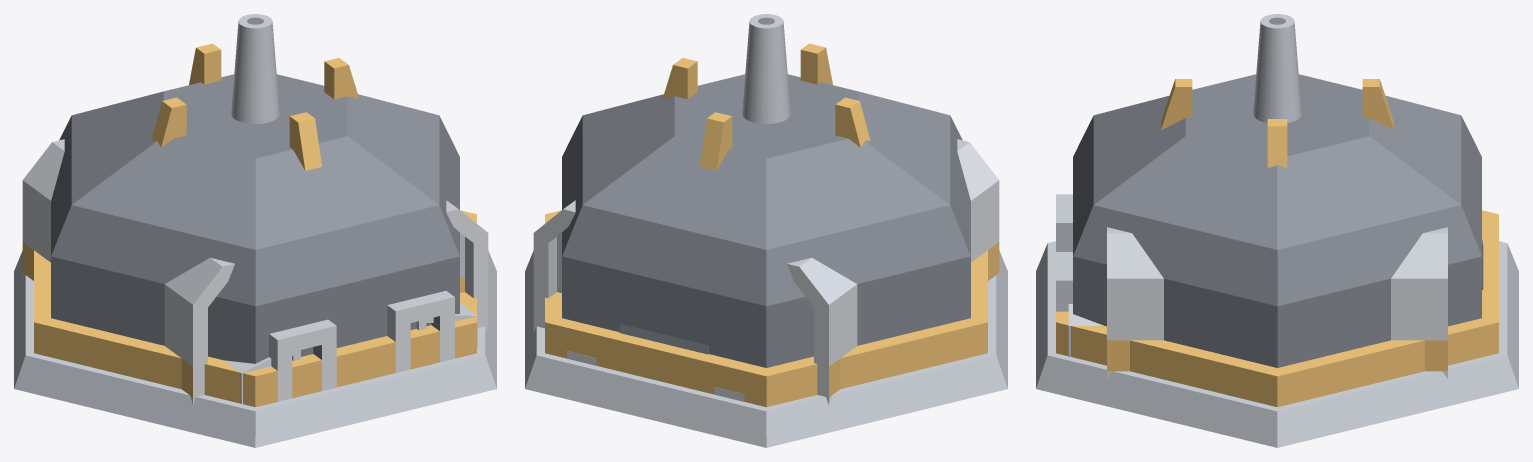
Rendered from kenney-space.glb.
3 views of the same model, side by side, from view 1: azimuth 30°, elevation 25°; view 2: azimuth 150°, elevation 25°; view 3: azimuth 270°, elevation 25° (orthographic).
Parts seen in each view (by area): view 1: hangar_roundGlass, Mesh hangar_smallA, craft_miner, rocket_baseA, chimney_detailed, craft_cargoA; view 2: hangar_roundGlass, Mesh hangar_smallA, rocket_baseA, chimney_detailed, craft_cargoA, craft_miner; view 3: hangar_roundGlass, Mesh hangar_smallA, chimney_detailed, rocket_baseA, craft_miner, craft_cargoA.
Part boxes in pixels (<box>): hangar_roundGlass: <box>14,74,496,447</box>; Mesh hangar_smallA: <box>22,139,488,404</box>; craft_miner: <box>269,276,464,401</box>; rocket_baseA: <box>151,43,359,170</box>; chimney_detailed: <box>231,14,279,123</box>; craft_cargoA: <box>224,303,477,404</box>; hangar_roundGlass: <box>525,74,1007,447</box>; Mesh hangar_smallA: <box>533,139,999,404</box>; rocket_baseA: <box>662,43,870,170</box>; chimney_detailed: <box>742,14,790,123</box>; craft_cargoA: <box>619,324,708,354</box>; craft_miner: <box>567,351,744,401</box>; hangar_roundGlass: <box>1036,74,1518,447</box>; Mesh hangar_smallA: <box>1107,227,1447,378</box>; chimney_detailed: <box>1253,14,1301,122</box>; rocket_baseA: <box>1161,79,1393,167</box>; craft_miner: <box>1056,194,1072,311</box>; craft_cargoA: <box>1068,240,1483,356</box>.
Bounding box in the file's own units: 3.27 × 2.1 × 2.83.
